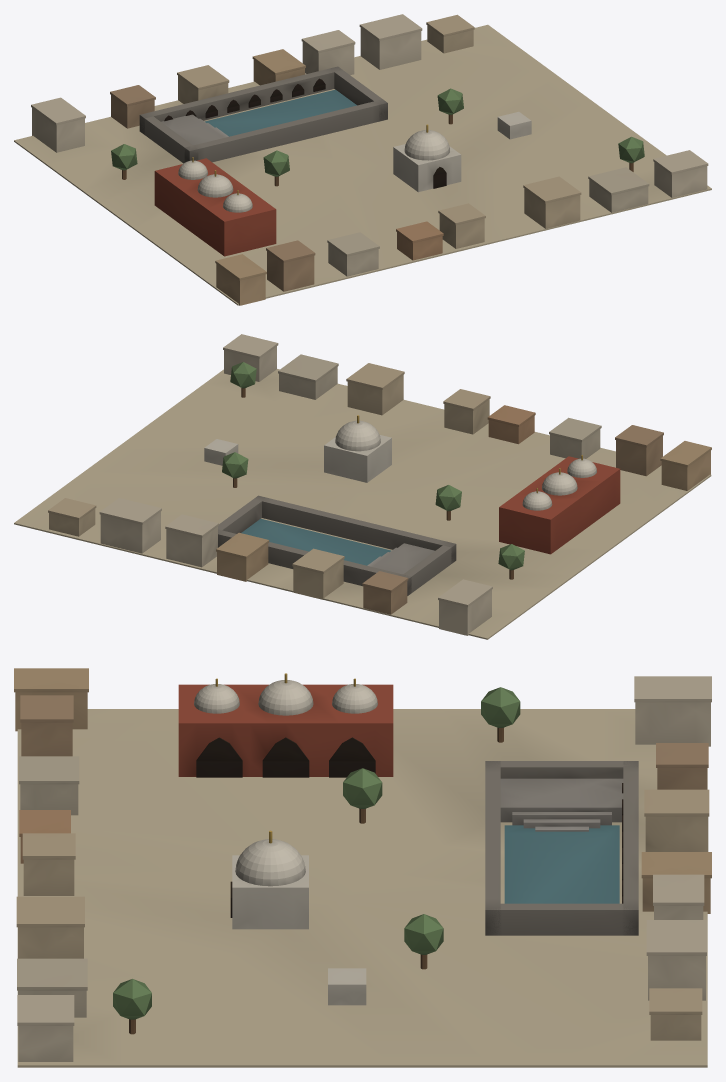
File: nizamuddin-early.glb
The picture shows the model from 3 angles, top to bottom: view 1: azimuth 30°, elevation 25°; view 2: azimuth 150°, elevation 25°; view 3: azimuth 270°, elevation 25°; orthographic projection. The views are drawn at different scales.
Visible parts, largest first — view 1: p0_court, p1_mosque, p2_tomb, p3_domes; view 2: p0_court, p1_mosque, p2_tomb, p3_domes; view 3: p0_court, p1_mosque, p2_tomb, p3_domes.
Part boxes in pixels (x1=…): p0_court: x1=14, y1=14, x2=711, y2=305; p1_mosque: x1=154, y1=158, x2=276, y2=256; p2_tomb: x1=111, y1=88, x2=644, y2=192; p3_domes: x1=178, y1=124, x2=449, y2=212; p0_court: x1=14, y1=334, x2=711, y2=639; p1_mosque: x1=499, y1=456, x2=620, y2=554; p2_tomb: x1=204, y1=362, x2=524, y2=579; p3_domes: x1=335, y1=415, x2=596, y2=510; p0_court: x1=14, y1=668, x2=711, y2=1067; p1_mosque: x1=178, y1=684, x2=393, y2=777; p2_tomb: x1=113, y1=687, x2=520, y2=1034; p3_domes: x1=194, y1=673, x2=377, y2=886.
Size of the model in its own units: 110 by 12.32 by 91.01.
